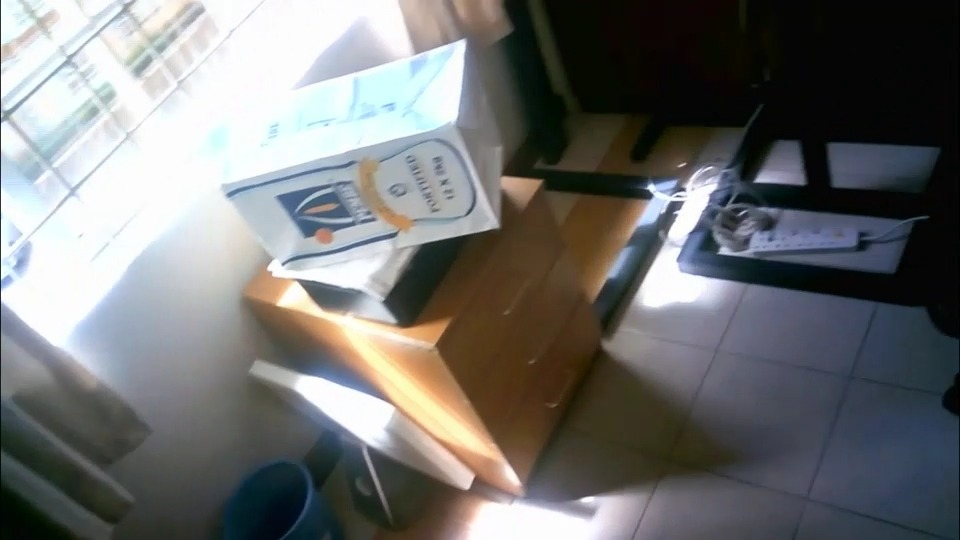wheat_flour_blue_label: (220, 38, 501, 265)
